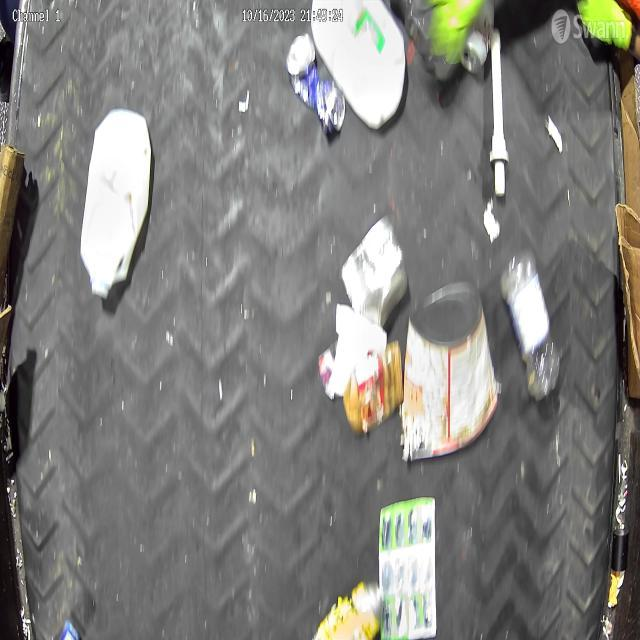can: (397, 273, 503, 470), (340, 212, 410, 332), (286, 30, 346, 137), (312, 579, 384, 640)
milk_jug: (76, 108, 158, 302), (310, 0, 408, 133)
plastic_bottle: (500, 249, 562, 402)
